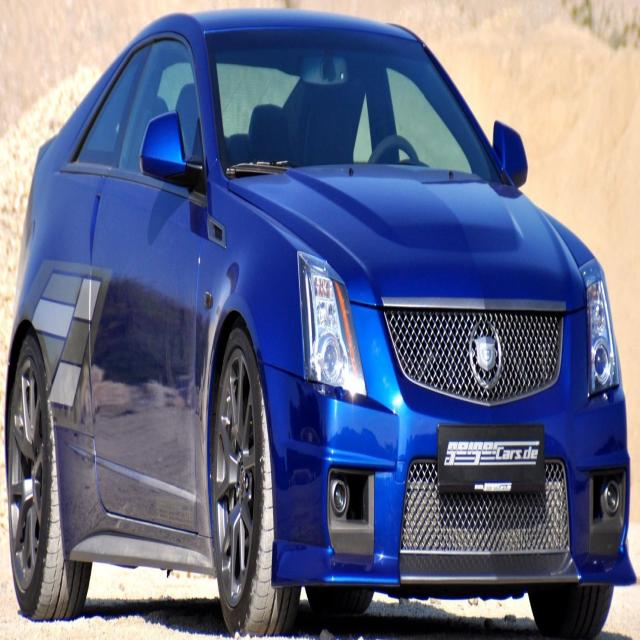blue: (5, 9, 640, 628)
